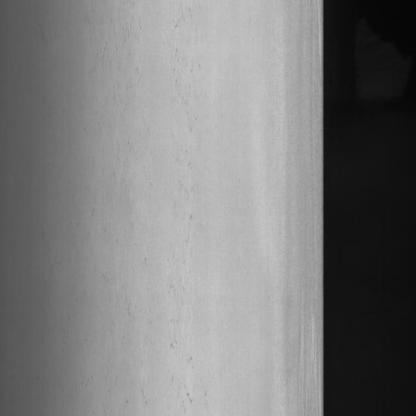silk_spot: (150, 73, 204, 415)
